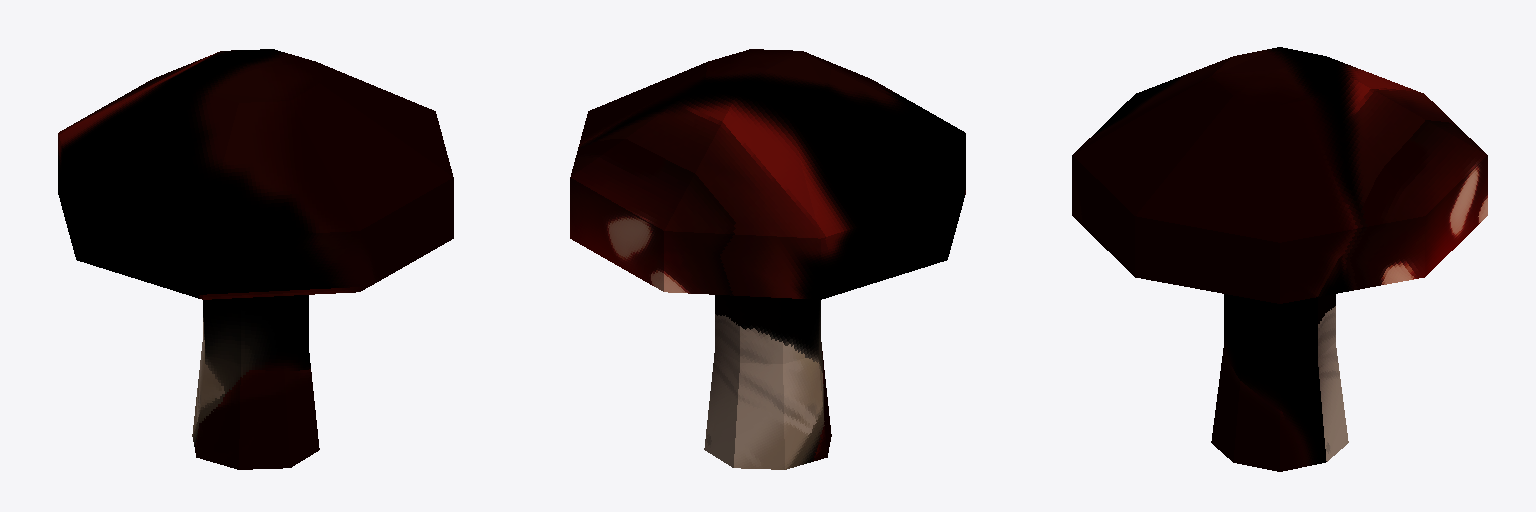
3 renders of one model, left to right at view 1: azimuth 30°, elevation 25°; view 2: azimuth 150°, elevation 25°; view 3: azimuth 270°, elevation 25°, orthographic.
Visible parts, largest first — view 1: Cube; view 2: Cube; view 3: Cube.
Boxes of the visible parts, x1=… form: Cube: x1=58, y1=49, x2=453, y2=469; Cube: x1=570, y1=49, x2=965, y2=469; Cube: x1=1072, y1=47, x2=1487, y2=471.
Bounding box in the file's own units: 5.88 × 5.85 × 5.88.
Materials: 1 (1 with a texture image).